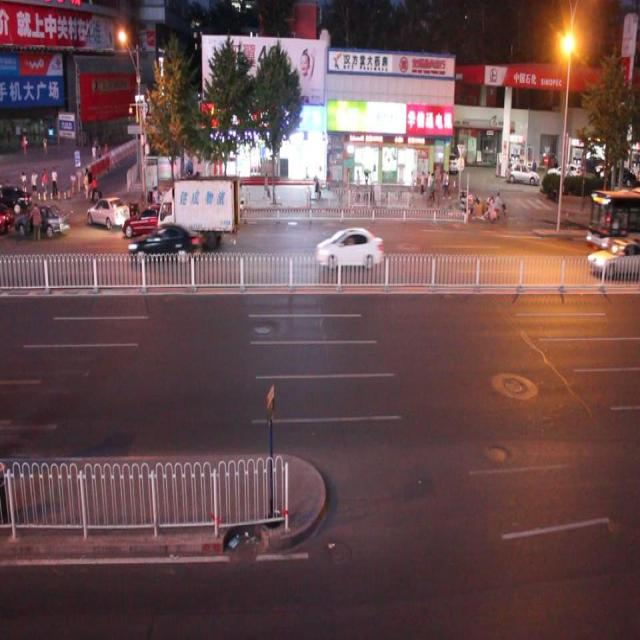bus: (153, 184, 240, 259)
car: (128, 221, 200, 271), (313, 224, 384, 273), (120, 210, 182, 251), (14, 201, 71, 239), (586, 237, 640, 276), (86, 194, 131, 232), (0, 182, 32, 220)
van: (584, 187, 640, 249)
